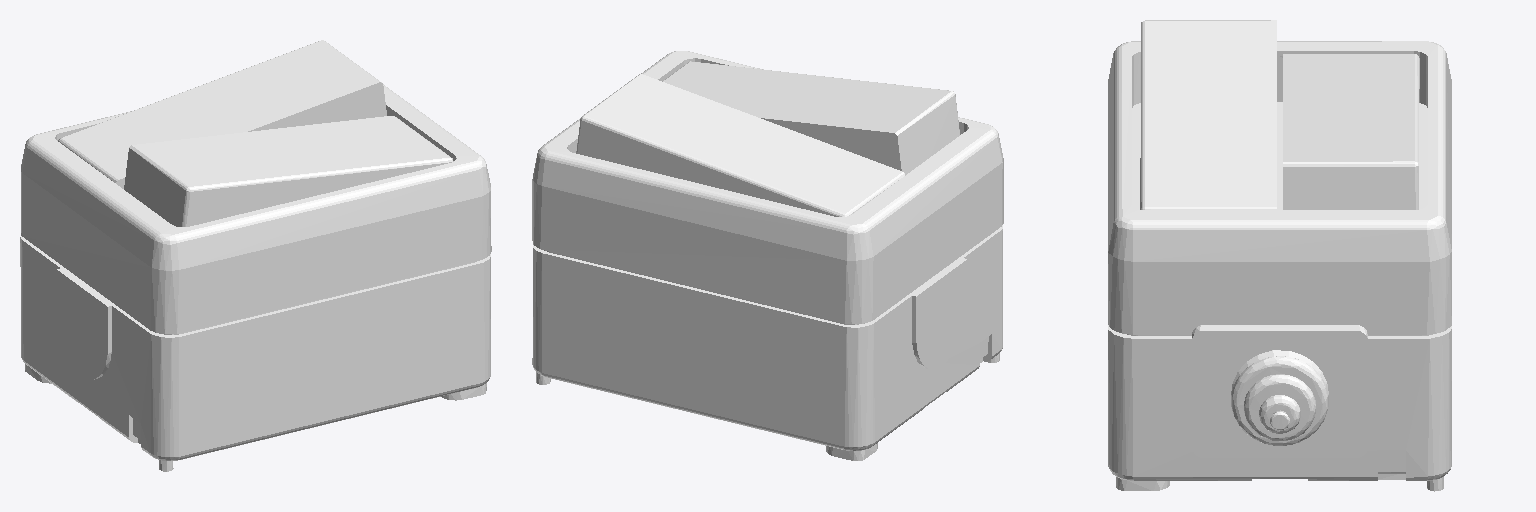
The robot description file, URDF, robot "obj_000025":
<?xml version="1.0"?>
<robot name="obj_000025">
   <link name="base_link">
      <visual>
         <geometry>
            <mesh filename="package://agimus_demo_07_tiago_pro_pick_and_drop/urdf/obj_25.obj"
               scale="1 1 1" />
         </geometry>
         <material name="tless_white">
            <color rgba="1.0 1.0 1.0 1.0"/>
         </material>
      </visual>
      <collision>
         <geometry>
            <mesh filename="package://agimus_demo_07_tiago_pro_pick_and_drop/urdf/obj_25.obj"
               scale="1 1 1" />
         </geometry>
      </collision>
      <inertial>
         <origin rpy="0 0 0" xyz="0.0 0.0 0.0" />
         <mass value="0.1" />
         <inertia ixx="1" ixy="0" ixz="0" iyy="1" iyz="0" izz="1" />
      </inertial>
   </link>
</robot>

--- Render facts (derived) ---
3 views of the same robot in one strip: view 1: azimuth 30°, elevation 25°; view 2: azimuth 150°, elevation 25°; view 3: azimuth 270°, elevation 25° (orthographic).
Model obj_000025 with 1 links and 0 joints (none), rooted at base_link, posed every joint at zero.
Links seen in each view (by area): view 1: base_link; view 2: base_link; view 3: base_link.
Boxes of the visible links, left/top/right/bottom form: base_link: left=20, top=40, right=491, bottom=471; base_link: left=532, top=51, right=1003, bottom=460; base_link: left=1108, top=20, right=1451, bottom=491.
Size in the robot's own frame: 0.096 by 0.0614 by 0.0608 metres.
1 mesh visuals loaded from 1 distinct referenced files (1 OBJ).
